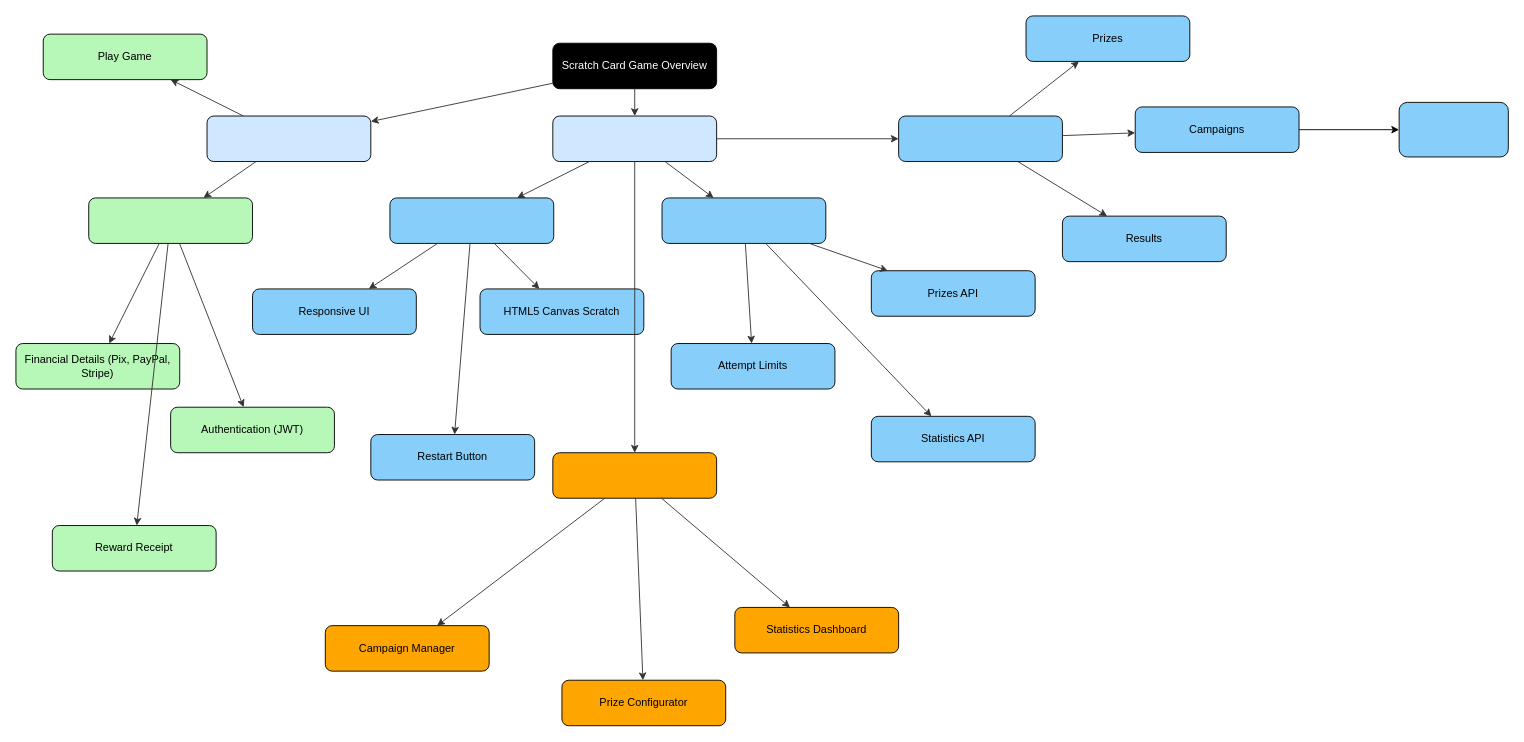
Some shapes in this 1524 by 742 pixel diagram are drawn without their labels. The centre of each missing label's shape, as x and y in pixels:
Admin Panel: (634,475)
Backend (Python/FastAPI): (743,220)
Claim Prize: (170,220)
Database (PostgreSQL): (980,138)
Frontend (React/Vue): (471,220)
Player Experience: (288,138)
System Management: (634,138)
Users: (1453,129)
